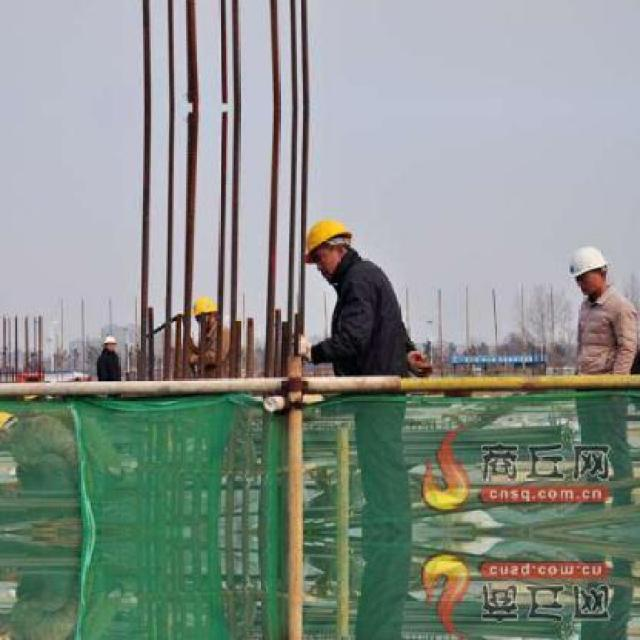helmet: (299, 219, 353, 254), (569, 246, 609, 276), (192, 294, 218, 316), (102, 335, 120, 345)
